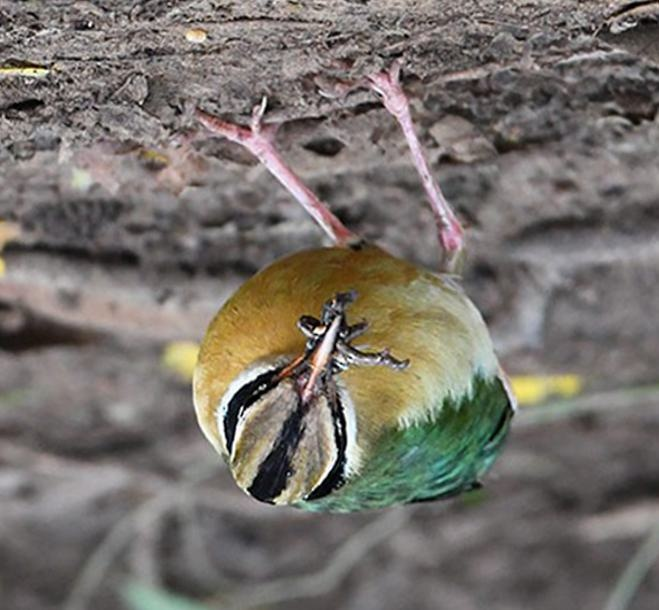pitta: (186, 89, 533, 546)
